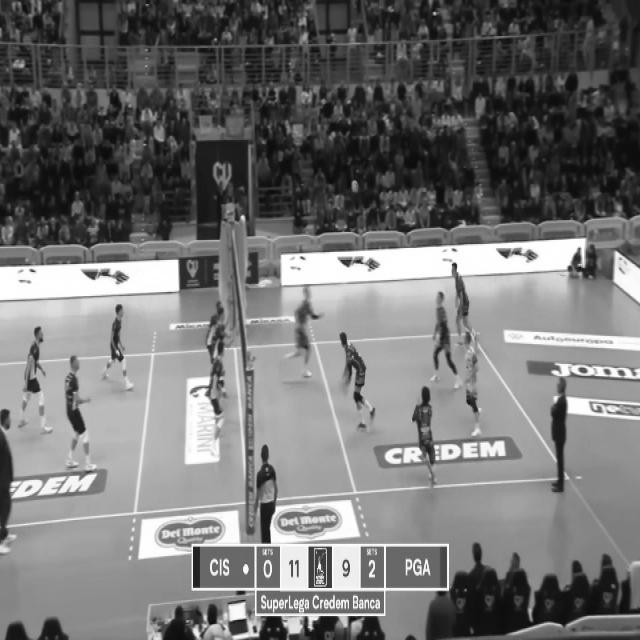volleyball court: (0, 329, 564, 527)
